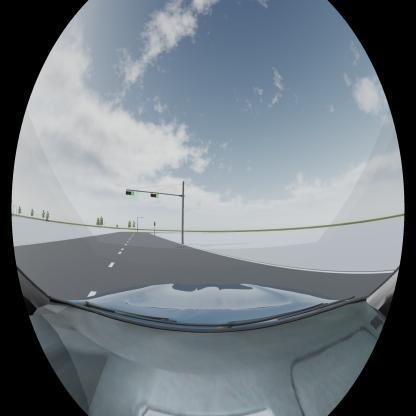Green Light: (150, 193, 159, 199), (125, 191, 134, 196)
